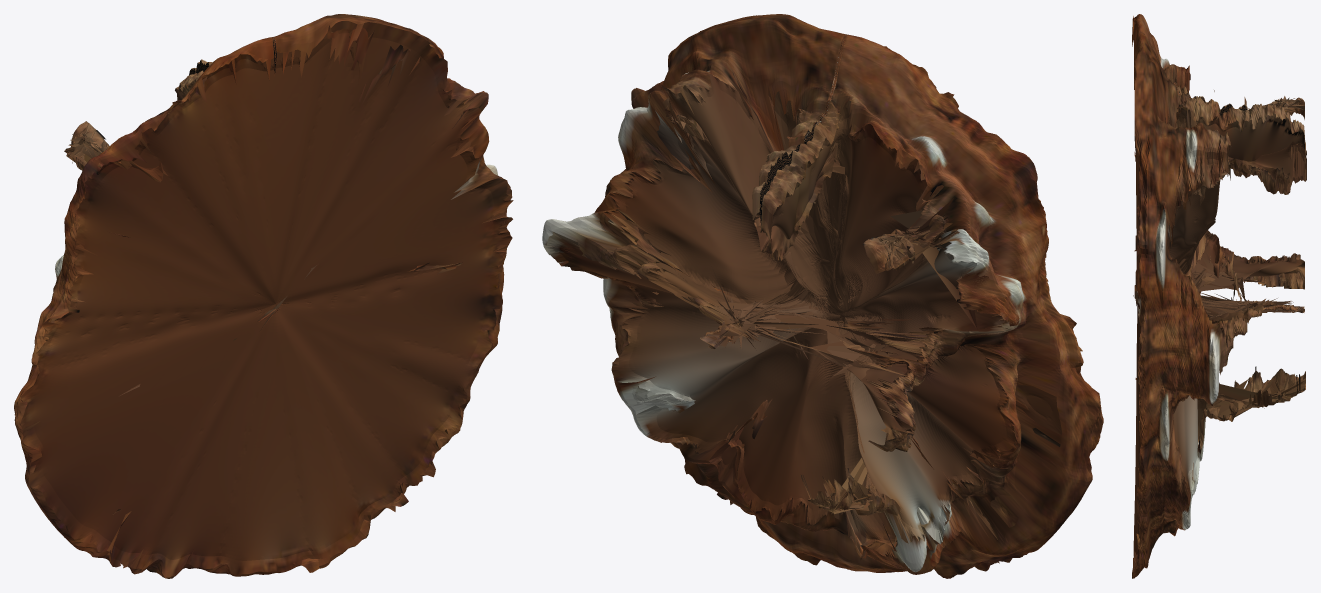
The model's file is membrane3_mesh.glb.
The picture shows the model from 3 angles, left to right: view 1: azimuth 30°, elevation 25°; view 2: azimuth 150°, elevation 25°; view 3: azimuth 270°, elevation 25°; orthographic projection. The views are drawn at different scales.
Visible parts, largest first — view 1: fill, ipn; view 2: fill, ipn; view 3: ipn, fill.
Boxes of the visible parts, x1,y1,x2,y2 form: fill: (20,21,513,578); ipn: (14,14,512,578); fill: (543,65,1082,561); ipn: (542,14,1103,578); ipn: (1132,14,1306,578); fill: (1132,23,1306,576).
Size of the model in its own units: 1.94 by 1.94 by 0.5783.
2 materials, 1 textured.
